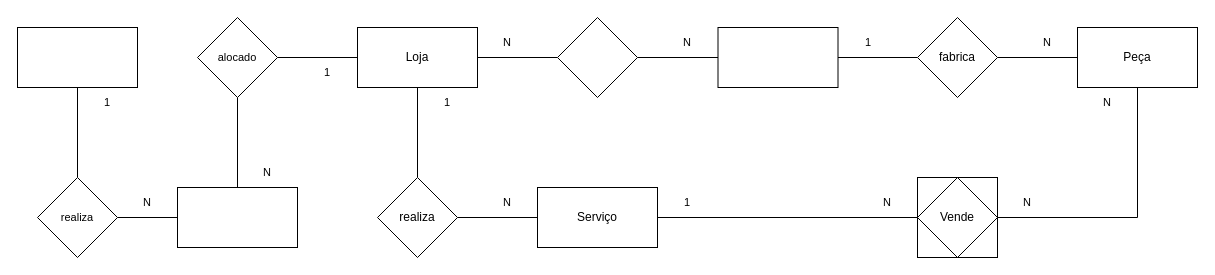
This 1215x275 diagram has some shape labels left out. The shapes that lost their labels are listed below. From the top down, each one's box as (x1, y1, x2, y2) in pixels, then its label:
(16, 26, 138, 88): Cliente
(556, 16, 638, 98): contacta
(717, 26, 838, 88): fornecedor
(176, 186, 298, 248): Agendamento
